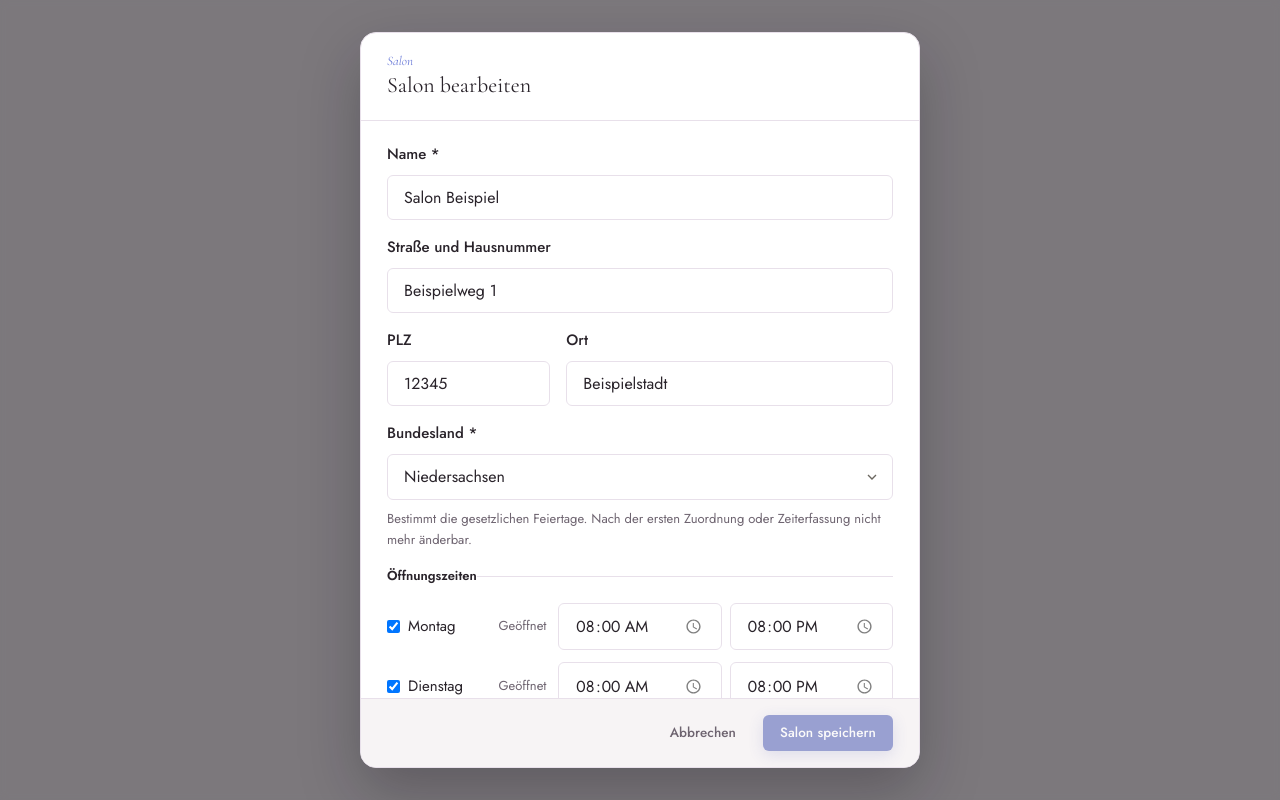
Test case: SalonDialog - refusals › a code-less 404 reads as a missing salon, not a missing tenant
The image size is (1280, 800).
Select "Bayern" in the dropdown labelled "Bundesland *" at (640, 477), box x1=387 y1=454 x2=893 y2=500
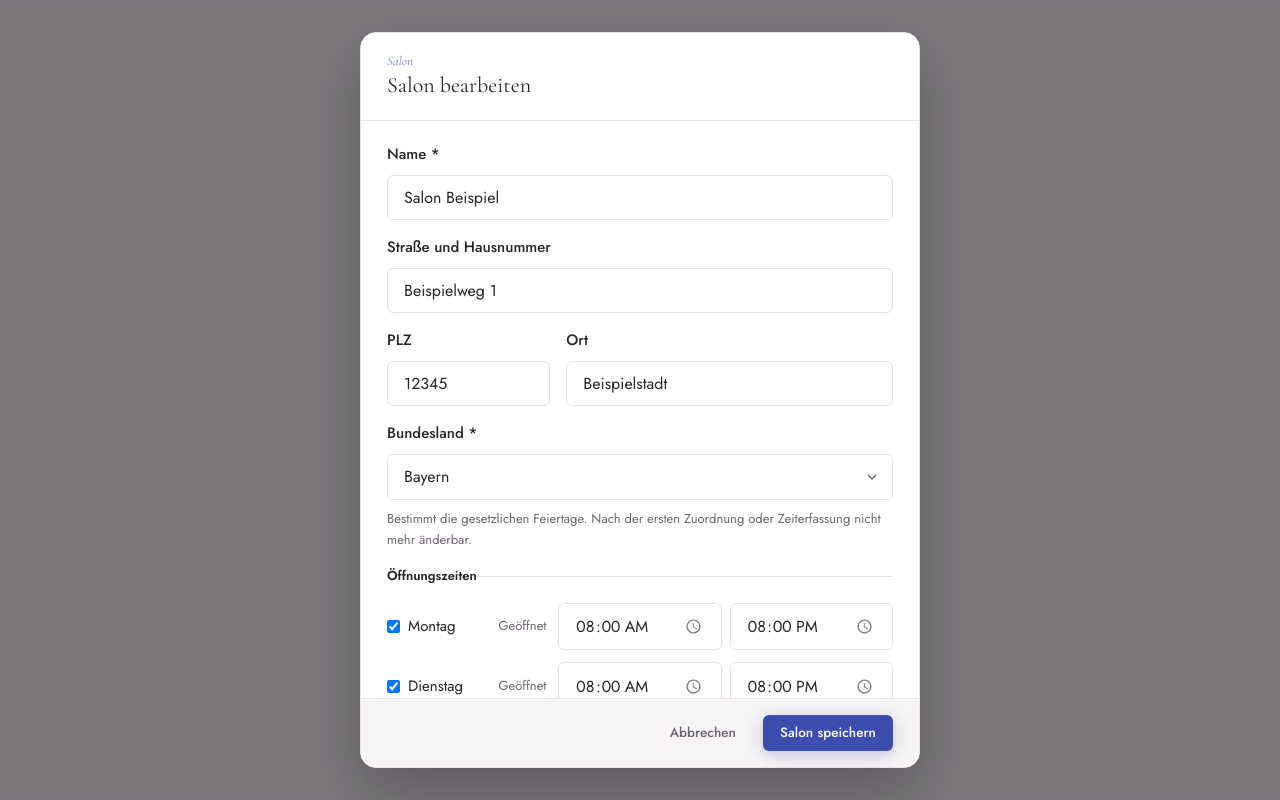
Click the button "Salon speichern" at (828, 733), box x1=763 y1=715 x2=893 y2=751
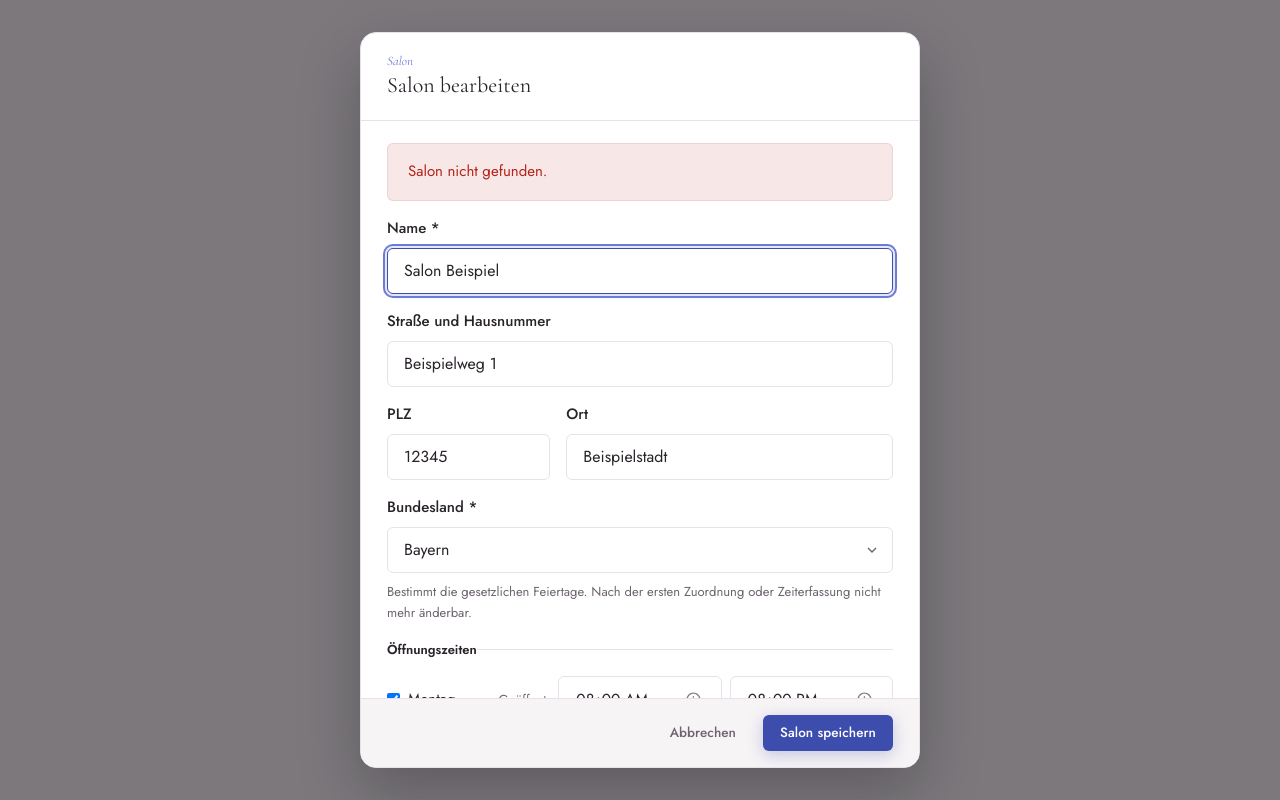
Check: the message "Salon nicht gefunden." is shown, box x1=387 y1=143 x2=893 y2=201
